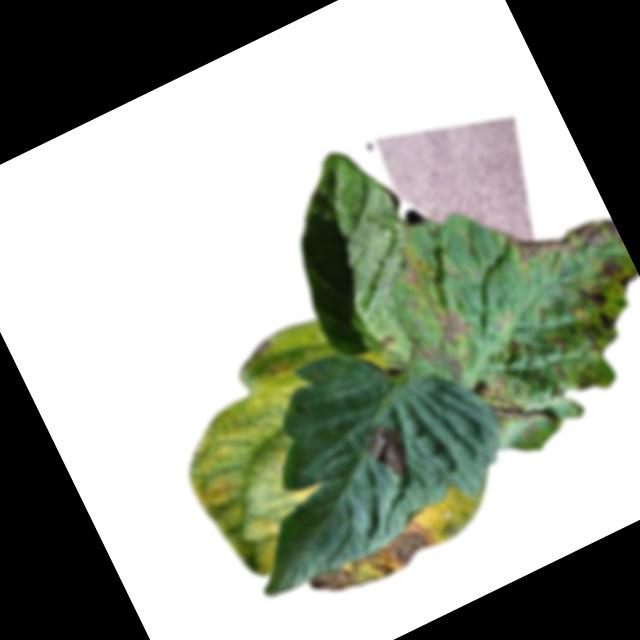Early_blight: (304, 516, 443, 611), (505, 189, 622, 287), (476, 358, 562, 448), (356, 416, 421, 487), (578, 278, 623, 338), (590, 247, 640, 300), (565, 312, 609, 366), (429, 301, 473, 350), (394, 248, 435, 297), (547, 332, 573, 361), (574, 372, 599, 396), (507, 335, 527, 356), (381, 334, 399, 352)
